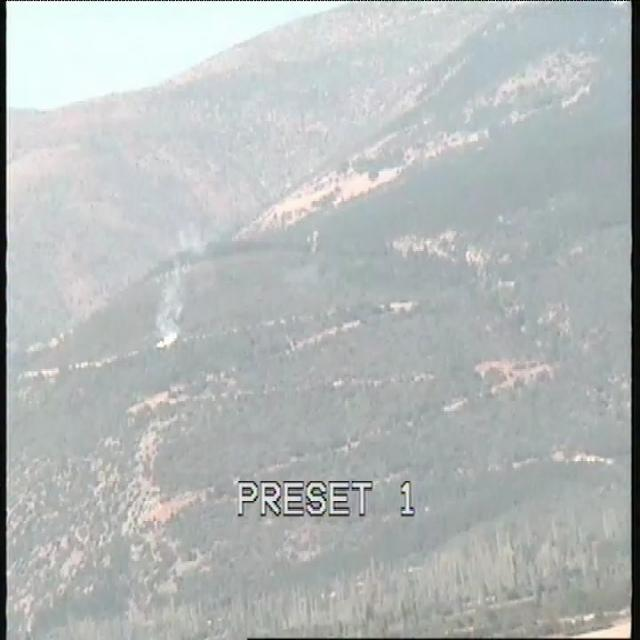smoke: (156, 242, 214, 342)
